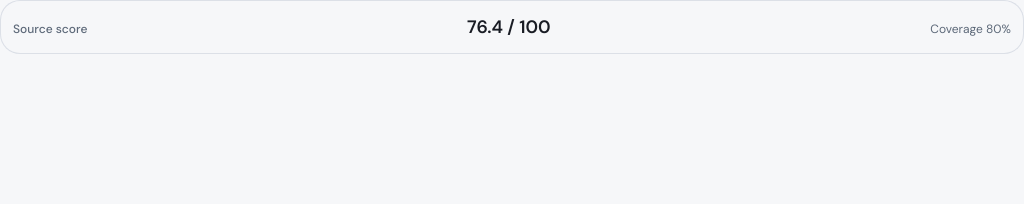
it: ScoreBreakdown › exposes score evidence through an accessible disclosure in a card
What coordinates should you click on to do the following:
click the button named "view score evidence"
I would click on:
 (512, 27)
Its box is [13, 13, 1011, 41].
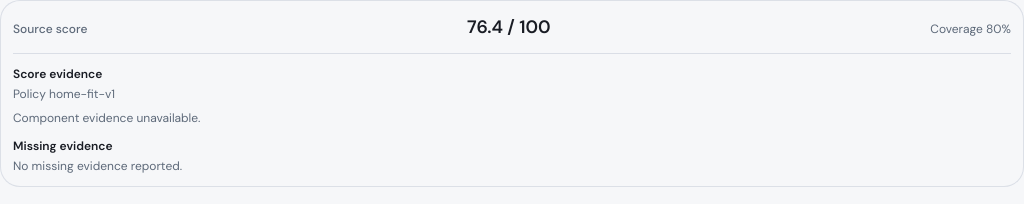
Expected: the heading "Score evidence" is shown, [13, 66, 102, 82]
